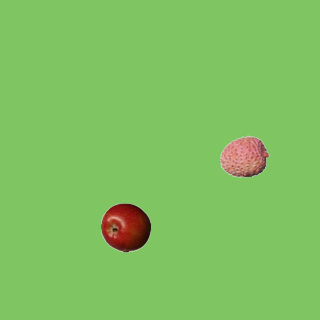Apple Braeburn: (100, 202, 150, 252)
Lychee: (219, 131, 269, 181)
